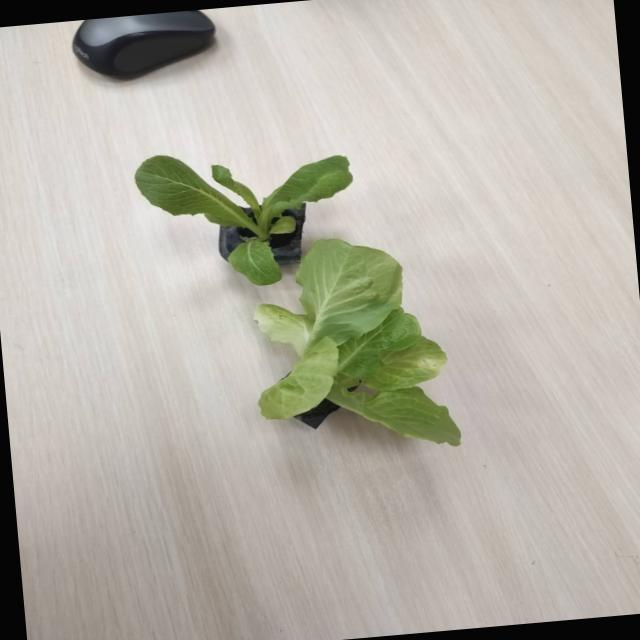Lettuce-Not-Ready-to-Harvest: (254, 238, 459, 444), (135, 154, 351, 284)
